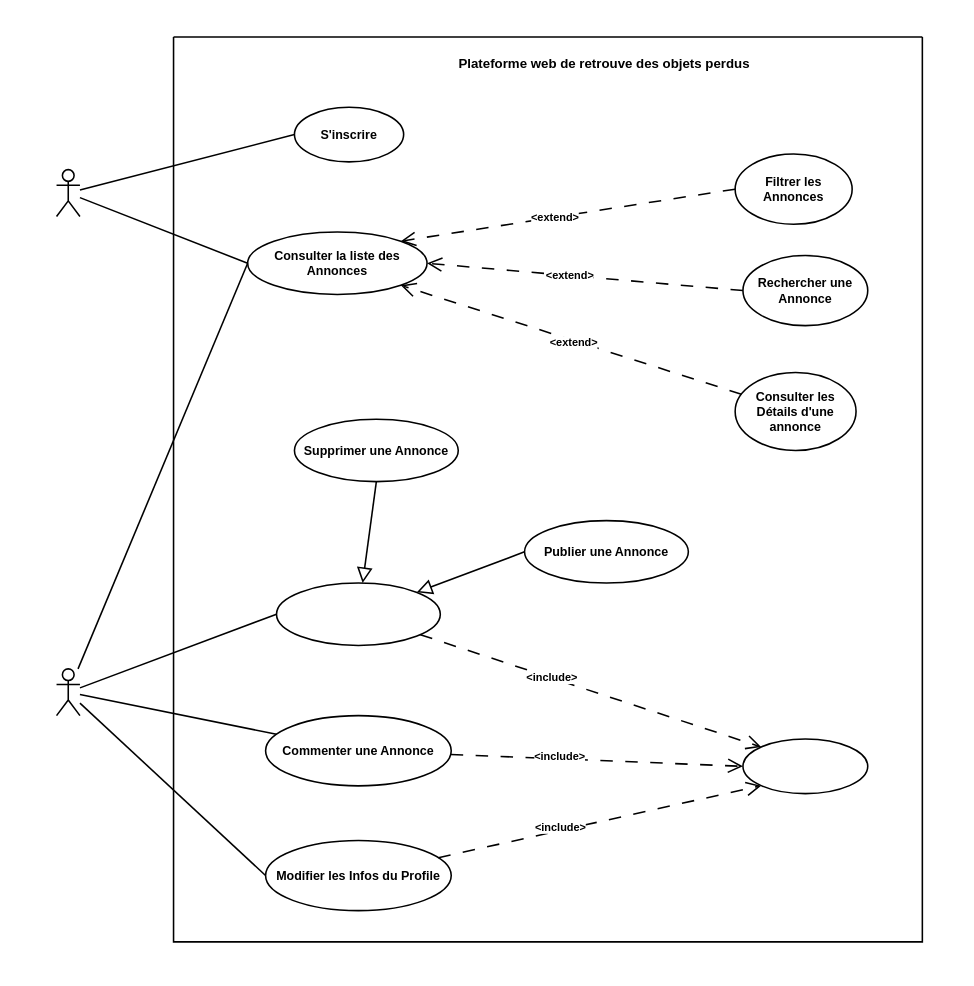
Some shapes in this 974 by 986 pixel diagram are drawn without their labels. Each missing label, with the box of its shape:
Gérer les Annonces: (275, 582, 441, 646)
Se Connecter: (742, 738, 868, 794)
Utilisateur: (55, 668, 80, 716)
Visiteur: (55, 168, 80, 217)
